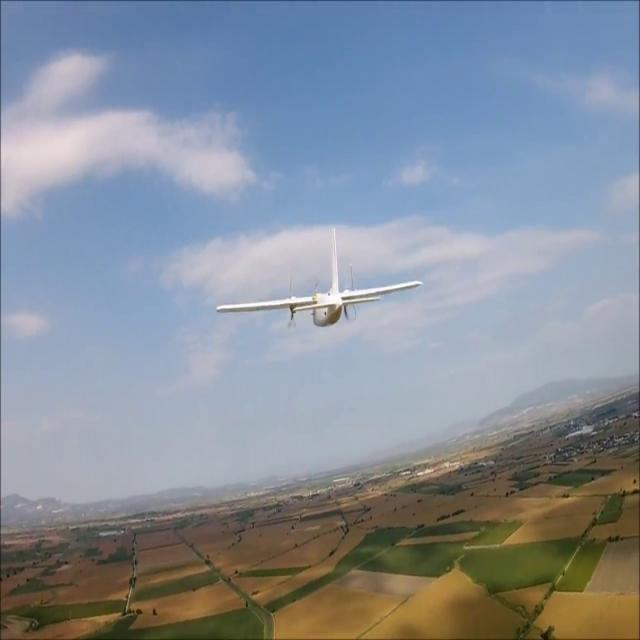iha: (215, 255, 423, 300)
